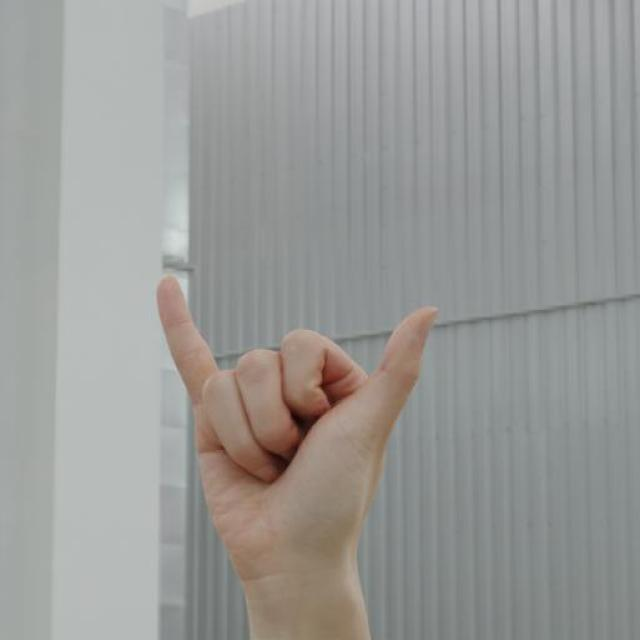Y: (148, 257, 446, 584)
